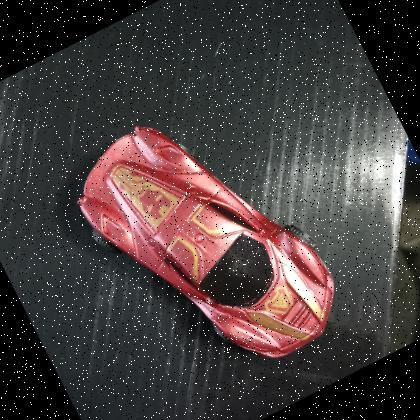Car: (46, 70, 362, 420)
